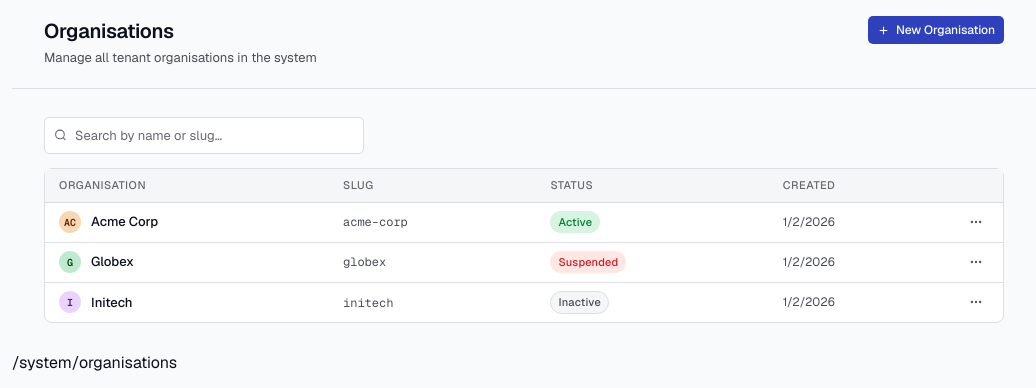
Test case: the search box › matches on a name, ignoring case
Expected: the text "Acme Corp" is shown, [91, 212, 158, 232]
Type "globex" into the field with placeholder "Search by name or slug…" at (204, 135), box [44, 116, 364, 154]
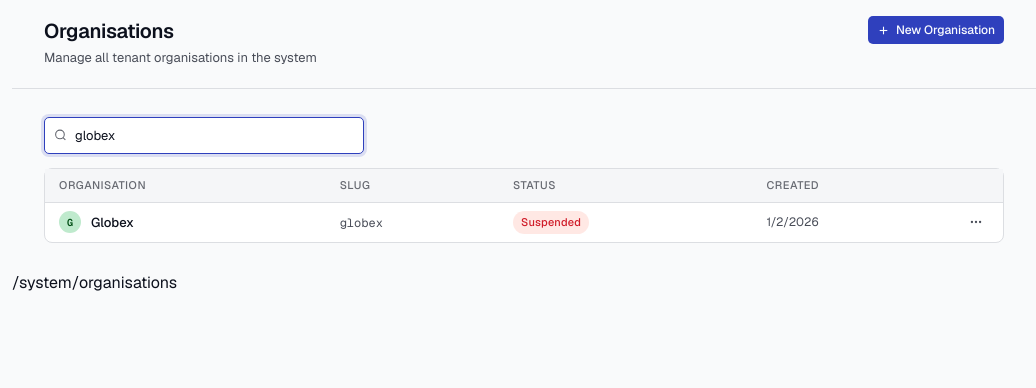
Expected: the text "Globex" is shown, [91, 212, 134, 232]
Expected: the number of rows is 2, [45, 169, 1003, 202]; [45, 202, 1003, 242]
